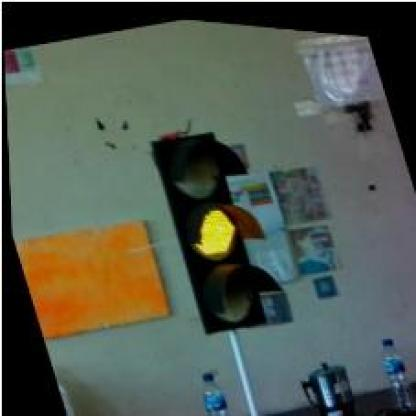yellow: (143, 113, 289, 338)
